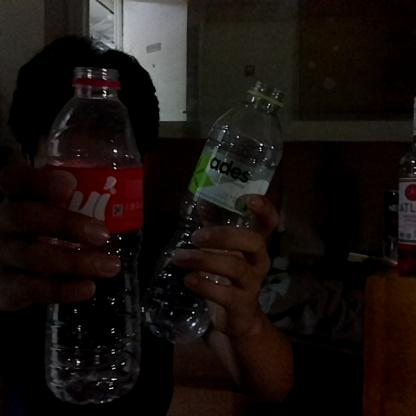plastic_bottles: (140, 80, 286, 345), (44, 61, 142, 403)
